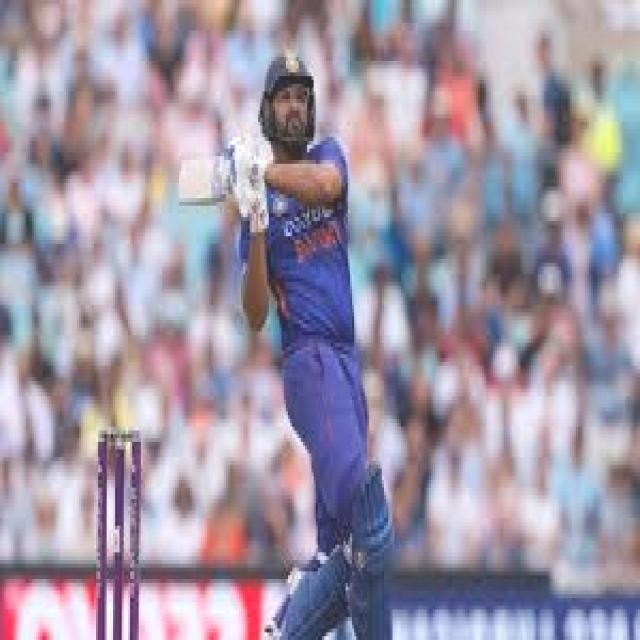toe: (177, 153, 188, 210)
